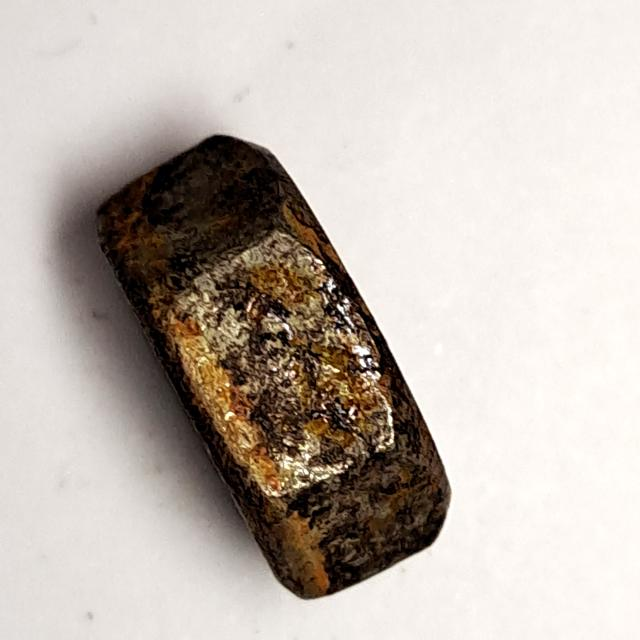Side_Rust: (81, 124, 477, 618)
